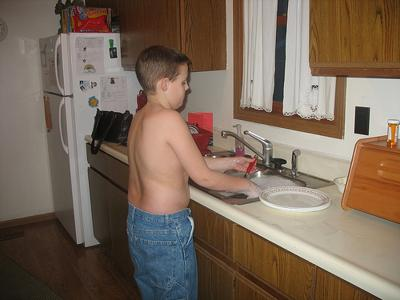person: (126, 45, 266, 300)
